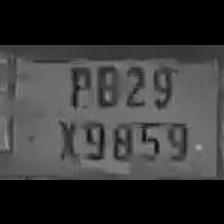2: (120, 60, 148, 108)
5: (135, 114, 163, 160)
8: (108, 116, 134, 162)
9: (78, 114, 106, 164), (147, 60, 175, 106), (163, 114, 189, 160)
B: (92, 60, 120, 108)
P: (64, 60, 94, 108)
X: (52, 113, 80, 162)
